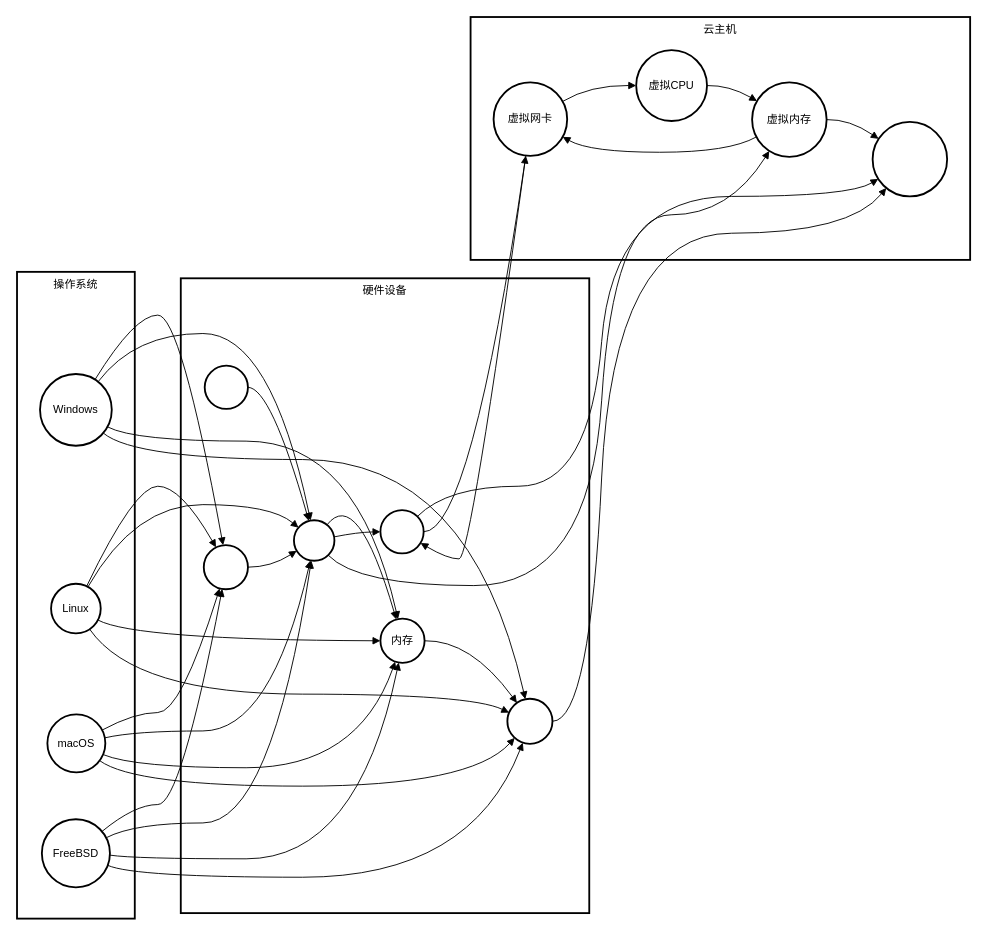
The diagram is 986 pixels wide and 935 high, and some of its shapes have lost their labels. Here are the shapes that lost their labels. From the top down, the box of each, then its label:
(871, 121, 948, 197): 虚拟硬盘
(203, 364, 248, 409): 显卡
(293, 519, 335, 561): CPU
(379, 509, 424, 554): 网卡
(202, 544, 248, 590): 主板
(506, 697, 553, 744): 硬盘
